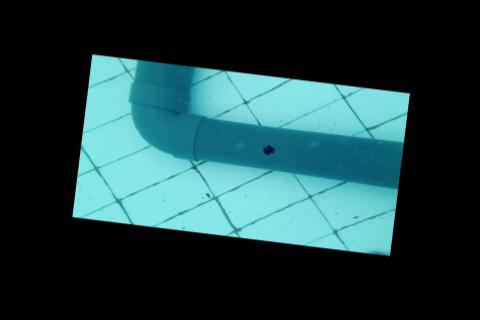kebocoran: (260, 142, 277, 156)
